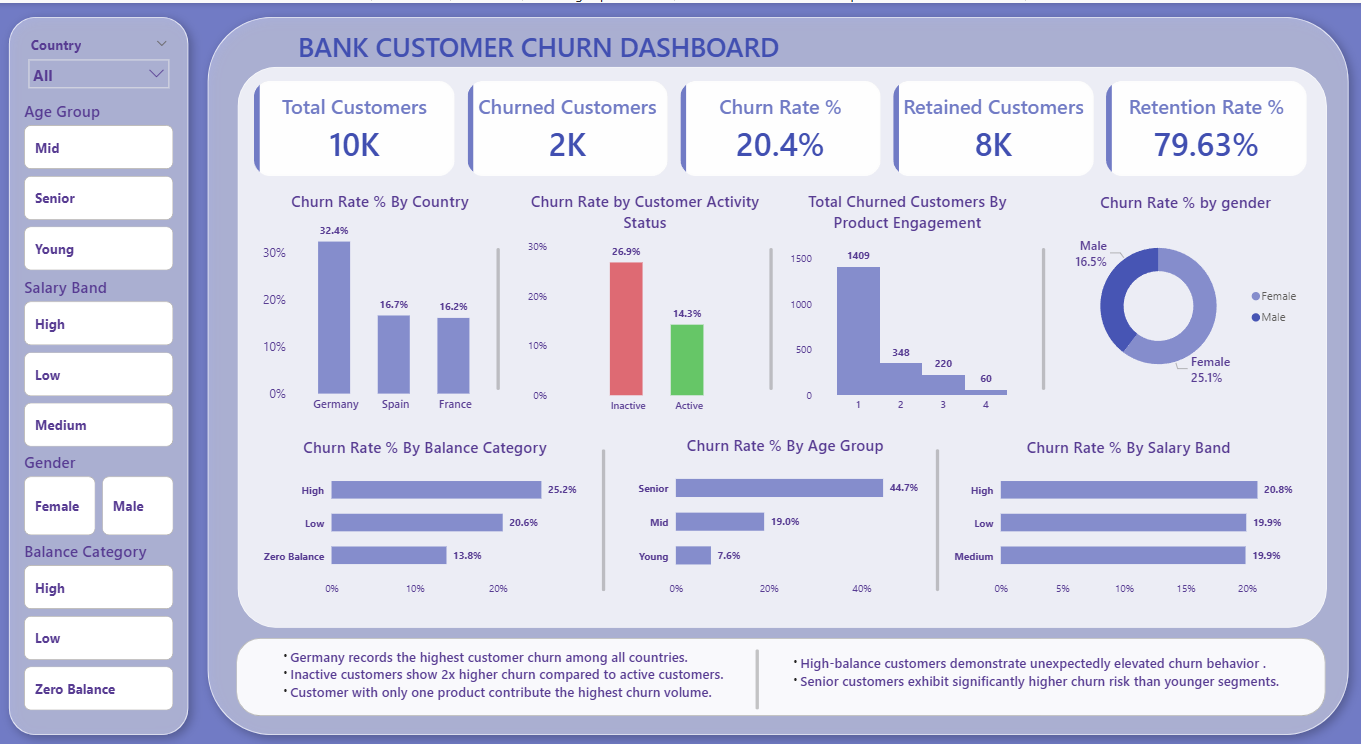

This screenshot's page, from the dashboard's own definition file:
{"tool":"powerbi","page":{"name":"Page 1","canvas":[1650,900],"ordinal":0},"visuals":[{"type":"group","id":"g1","title":"Group 1","box":[239.3,0,1410,900],"z":0},{"type":"shape","box":[239.3,0,1410,900],"z":0,"group":"g1"},{"type":"cardVisual","fields":{"Data":["Bank Customer Churn Dataset.Total Customers","Bank Customer Churn Dataset.Churned Customers","Bank Customer Churn Dataset.Churn Rate %","Bank Customer Churn Dataset.Retained Customers","Bank Customer Churn Dataset.Retention Rate %"]},"box":[295,76.5,1308,149.4],"z":1000,"group":"g2"},{"type":"shape","box":[291.7,77.1,1314.3,677.1],"z":1000,"group":"g1"},{"type":"shape","box":[594.2,295,25.7,171.4],"z":1000,"group":"g3"},{"type":"shape","box":[0,0,250,900],"z":2000},{"type":"textbox","box":[359.3,25.7,655.7,73.9],"z":2000,"group":"g1"},{"type":"columnChart","title":"Churn Rate % By Country","fields":{"Category":["Bank Customer Churn Dataset.country"],"Y":["Bank Customer Churn Dataset.Churn Rate %"]},"box":[317.8,225.9,292.7,277.2],"z":2000,"group":"g2"},{"type":"columnChart","title":"Total Churned Customers By Product Engagement","fields":{"Category":["Bank Customer Churn Dataset.products_number"],"Y":["Bank Customer Churn Dataset.Churned Customers"]},"box":[954.6,226.8,292.2,276.9],"z":3000},{"type":"clusteredColumnChart","title":"Churn Rate by Customer Activity Status","fields":{"Y":["Bank Customer Churn Dataset.Churn Rate %"],"Category":["Bank Customer Churn Dataset.active_status"]},"box":[637.7,225.9,292.7,277.2],"z":4000,"group":"g2"},{"type":"group","id":"g2","title":"Group 2","box":[295,76.5,1308,648.4],"z":5000},{"type":"shape","box":[918.5,295,35.7,171.4],"z":5000,"group":"g3"},{"type":"shape","box":[1247.1,295,35.7,171.4],"z":6000,"group":"g3"},{"type":"advancedSlicerVisual","title":"Balance Category","fields":{"Values":["Bank Customer Churn Dataset.balance_category"]},"box":[30,648.3,190,211.7],"z":6000},{"type":"clusteredBarChart","title":"Churn Rate % By Balance Category","fields":{"Category":["Bank Customer Churn Dataset.balance_category"],"Y":["Bank Customer Churn Dataset.Churn Rate %"]},"box":[317.8,523.2,401.2,201.1],"z":7000,"group":"g2"},{"type":"advancedSlicerVisual","title":"Gender","fields":{"Values":["Bank Customer Churn Dataset.gender"]},"box":[30,541.7,190,106.7],"z":7000},{"type":"advancedSlicerVisual","title":"Salary Band","fields":{"Values":["Bank Customer Churn Dataset.salary_band"]},"box":[30,330,190,211.7],"z":8000},{"type":"clusteredBarChart","title":"Churn Rate % By Age Group","fields":{"Category":["Bank Customer Churn Dataset.age_group"],"Y":["Bank Customer Churn Dataset.Churn Rate %"]},"box":[769.4,519.8,365.8,205.1],"z":8000,"group":"g2"},{"type":"shape","box":[715.6,537.9,35.7,171.4],"z":8000,"group":"g3"},{"type":"shape","box":[291.4,765.7,1314.3,94.3],"z":8500},{"type":"textbox","box":[332.9,772.9,572.9,78.6],"z":8750},{"type":"clusteredBarChart","title":"Churn Rate % By Salary Band","fields":{"Y":["Bank Customer Churn Dataset.Churn Rate %"],"Category":["Bank Customer Churn Dataset.salary_band"]},"box":[1150.3,523.2,434.1,201.1],"z":9000,"group":"g2"},{"type":"shape","box":[1119.1,538.6,36.2,171.2],"z":9000,"group":"g3"},{"type":"shape","box":[900,780,38.6,72.9],"z":9000},{"type":"advancedSlicerVisual","title":"Age Group","fields":{"Values":["Bank Customer Churn Dataset.age_group"]},"box":[30,118.3,190,211.7],"z":10000},{"type":"donutChart","fields":{"Category":["Bank Customer Churn Dataset.gender"],"Y":["Bank Customer Churn Dataset.Churn Rate %"]},"box":[1287.4,227.3,297,251.4],"z":10000,"group":"g2"},{"type":"slicer","fields":{"Values":["Bank Customer Churn Dataset.country"]},"box":[30,35,190,83.3],"z":11000},{"type":"group","id":"g3","title":"Group 3","box":[594.2,295,688.8,414.7],"z":12000},{"type":"textbox","box":[948.6,780,631.4,80],"z":13000}]}

Visuals, with their boxes in screenshot pixels (x1, y1, x2, y2), scaled from the page's 1650x900 canvas onto the 1361x744 screenshot:
"Group 1" group: {"left": 197, "top": 0, "right": 1360, "bottom": 743}
shape: {"left": 197, "top": 0, "right": 1360, "bottom": 743}
cardVisual - Bank Customer Churn Dataset.Total Customers x Bank Customer Churn Dataset.Churned Customers: {"left": 243, "top": 63, "right": 1322, "bottom": 187}
shape: {"left": 241, "top": 64, "right": 1325, "bottom": 623}
shape: {"left": 490, "top": 244, "right": 511, "bottom": 386}
shape: {"left": 0, "top": 0, "right": 206, "bottom": 743}
textbox: {"left": 296, "top": 21, "right": 837, "bottom": 82}
"Churn Rate % By Country" columnChart: {"left": 262, "top": 187, "right": 504, "bottom": 416}
"Total Churned Customers By Product Engagement" columnChart: {"left": 787, "top": 187, "right": 1028, "bottom": 416}
"Churn Rate by Customer Activity Status" clusteredColumnChart: {"left": 526, "top": 187, "right": 767, "bottom": 416}
"Group 2" group: {"left": 243, "top": 63, "right": 1322, "bottom": 599}
shape: {"left": 758, "top": 244, "right": 787, "bottom": 386}
shape: {"left": 1029, "top": 244, "right": 1058, "bottom": 386}
"Balance Category" advancedSlicerVisual: {"left": 25, "top": 536, "right": 181, "bottom": 711}
"Churn Rate % By Balance Category" clusteredBarChart: {"left": 262, "top": 433, "right": 593, "bottom": 599}
"Gender" advancedSlicerVisual: {"left": 25, "top": 448, "right": 181, "bottom": 536}
"Salary Band" advancedSlicerVisual: {"left": 25, "top": 273, "right": 181, "bottom": 448}
"Churn Rate % By Age Group" clusteredBarChart: {"left": 635, "top": 430, "right": 936, "bottom": 599}
shape: {"left": 590, "top": 445, "right": 620, "bottom": 586}
shape: {"left": 240, "top": 633, "right": 1324, "bottom": 711}
textbox: {"left": 275, "top": 639, "right": 747, "bottom": 704}
"Churn Rate % By Salary Band" clusteredBarChart: {"left": 949, "top": 433, "right": 1307, "bottom": 599}
shape: {"left": 923, "top": 445, "right": 953, "bottom": 587}
shape: {"left": 742, "top": 645, "right": 774, "bottom": 705}
"Age Group" advancedSlicerVisual: {"left": 25, "top": 98, "right": 181, "bottom": 273}
donutChart - Bank Customer Churn Dataset.gender x Bank Customer Churn Dataset.Churn Rate %: {"left": 1062, "top": 188, "right": 1307, "bottom": 396}
slicer - Bank Customer Churn Dataset.country: {"left": 25, "top": 29, "right": 181, "bottom": 98}
"Group 3" group: {"left": 490, "top": 244, "right": 1058, "bottom": 587}
textbox: {"left": 782, "top": 645, "right": 1303, "bottom": 711}
